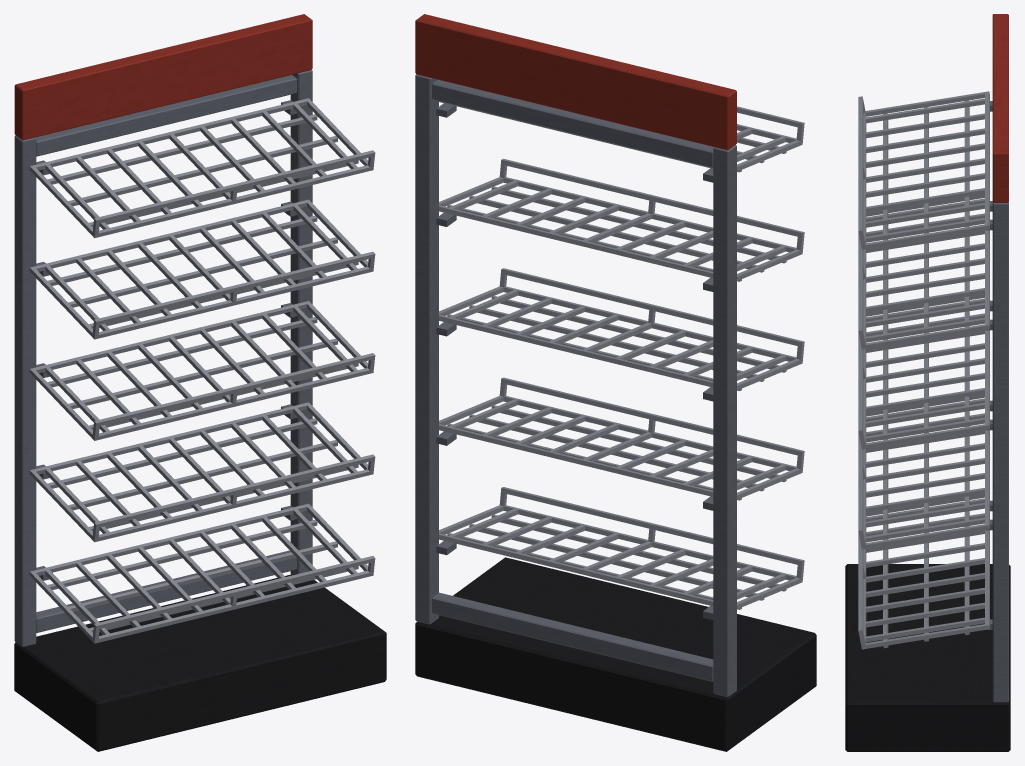
File: checkout_impulse_rack.glb
3 renders of one model, left to right at view 1: azimuth 30°, elevation 25°; view 2: azimuth 150°, elevation 25°; view 3: azimuth 270°, elevation 25°, orthographic. The views are drawn at different scales.
Parts seen in each view (by area): view 1: checkout_impulse_rack.001; view 2: checkout_impulse_rack.001; view 3: checkout_impulse_rack.001.
Boxes of the visible parts, x1,y1,x2,y2 form: checkout_impulse_rack.001: (14,14,386,751); checkout_impulse_rack.001: (415,14,816,751); checkout_impulse_rack.001: (845,14,1010,751).
Size of what is drawn, in the model's own units: 0.6 by 1.2 by 0.3.
Materials: 4 (4 with a texture image).
